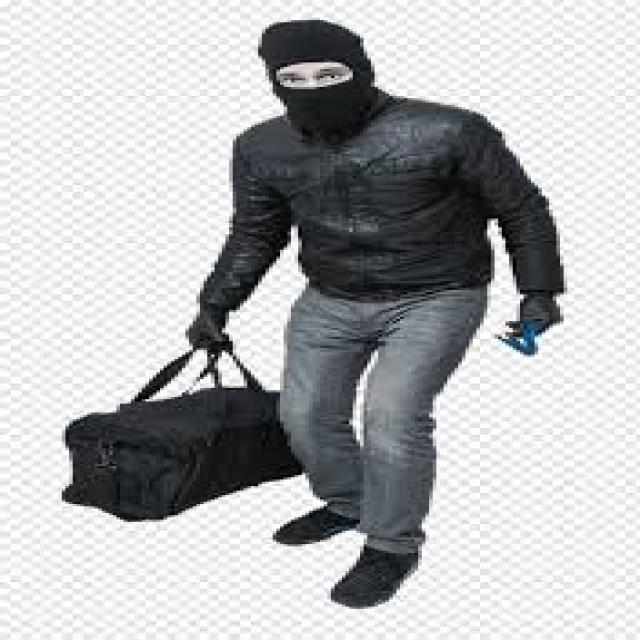person-with-mask: (73, 11, 608, 621)
